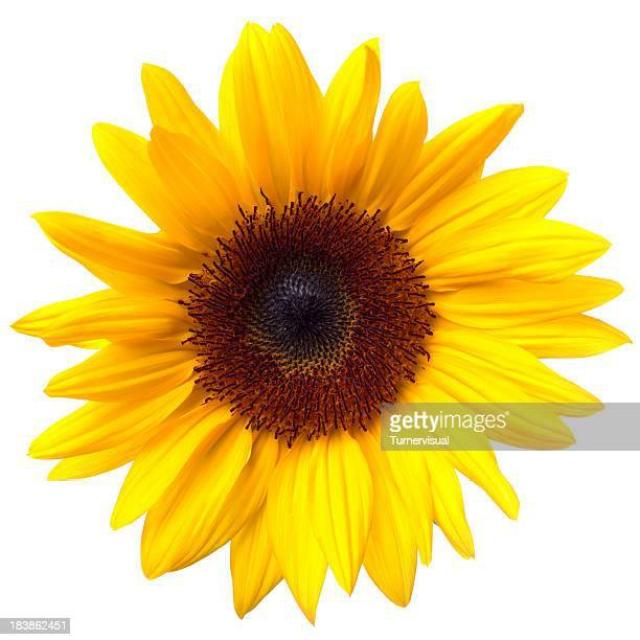sunflower: (11, 20, 632, 624)
